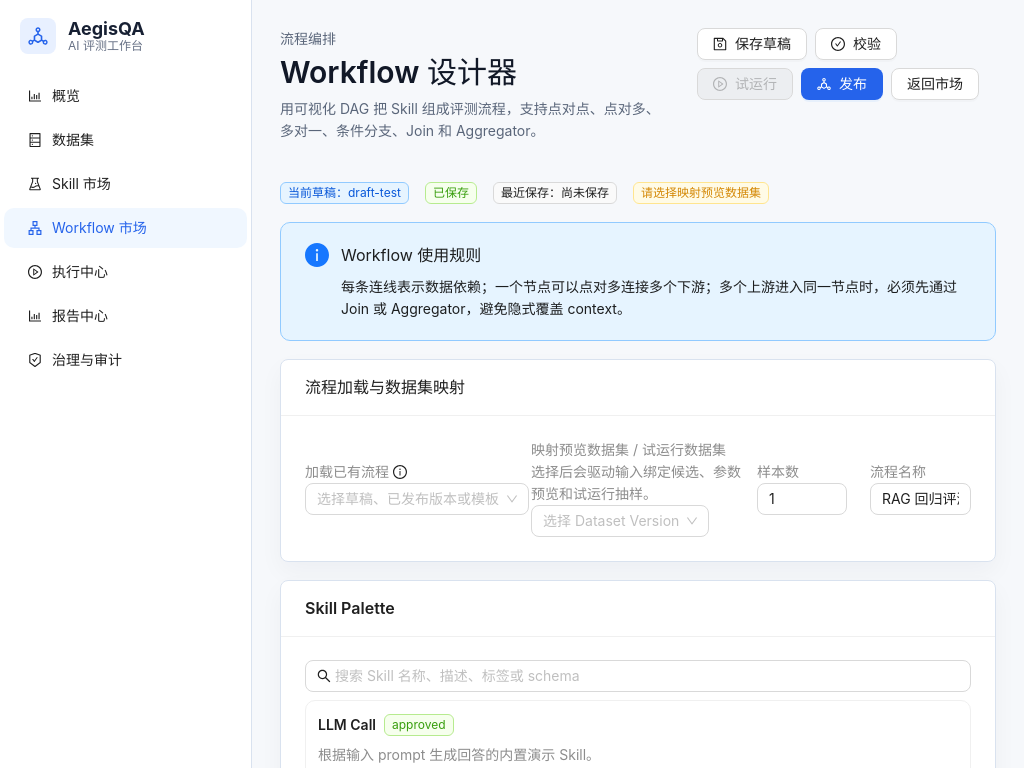
Test case: AegisQA 前端工作台 › Workflow 发布成功时优先发布草稿并展示下一步入口
What coordinates should you click on to do the following:
click the button "发布"
I would click on:
 (842, 84)
Its box is [801,68,883,100].
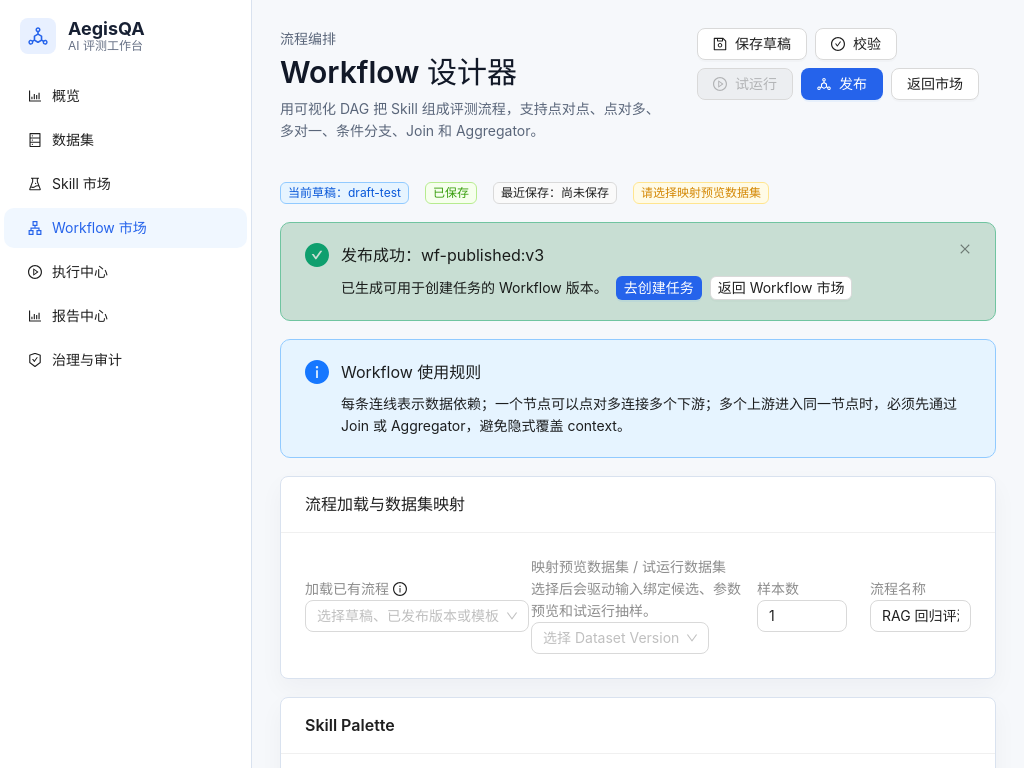
Check: the text "发布成功：wf-published:v3" is shown, box [341,245,544,265]
Check: the button "去创建任务" is shown, box [616,276,702,300]
Check: the button "返回 Workflow 市场" is shown, box [710,276,852,300]
